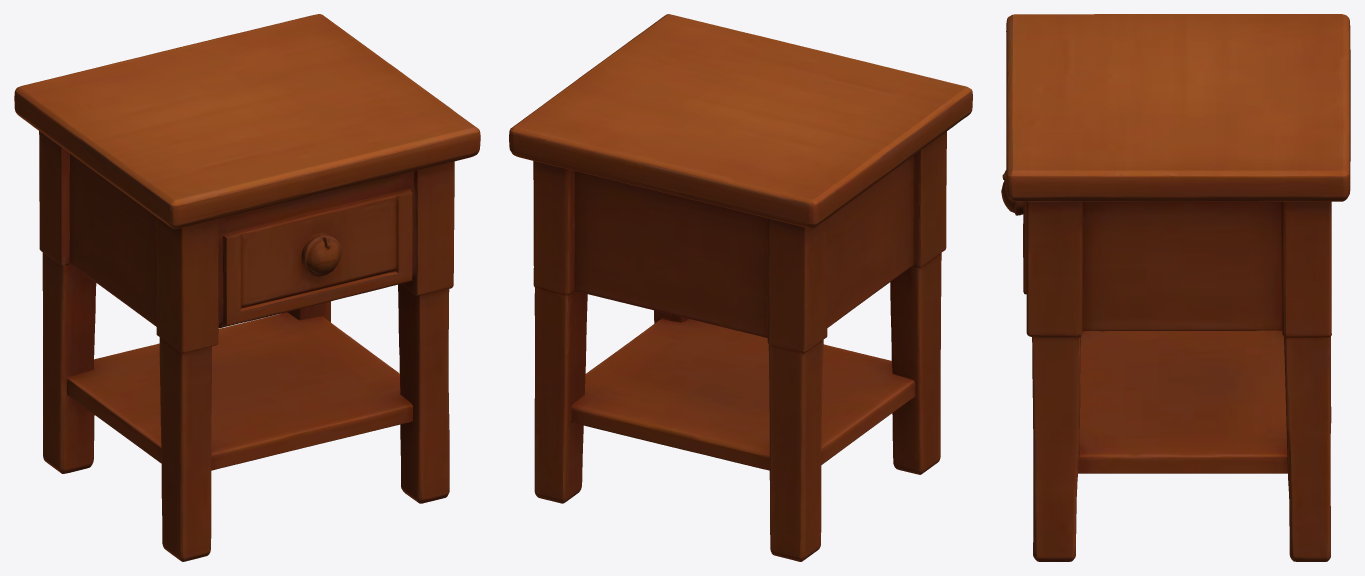
The model's file is end table.glb.
3 renders of one model, left to right at view 1: azimuth 30°, elevation 25°; view 2: azimuth 150°, elevation 25°; view 3: azimuth 270°, elevation 25°, orthographic. The views are drawn at different scales.
Visible parts, largest first — view 1: world; view 2: world; view 3: world.
Part boxes in pixels (x1=…): world: x1=14, y1=14, x2=480, y2=561; world: x1=509, y1=14, x2=972, y2=561; world: x1=1001, y1=14, x2=1350, y2=561.
Bounding box in the file's own units: 0.867 × 1 × 0.791.
1 material, 1 textured.
